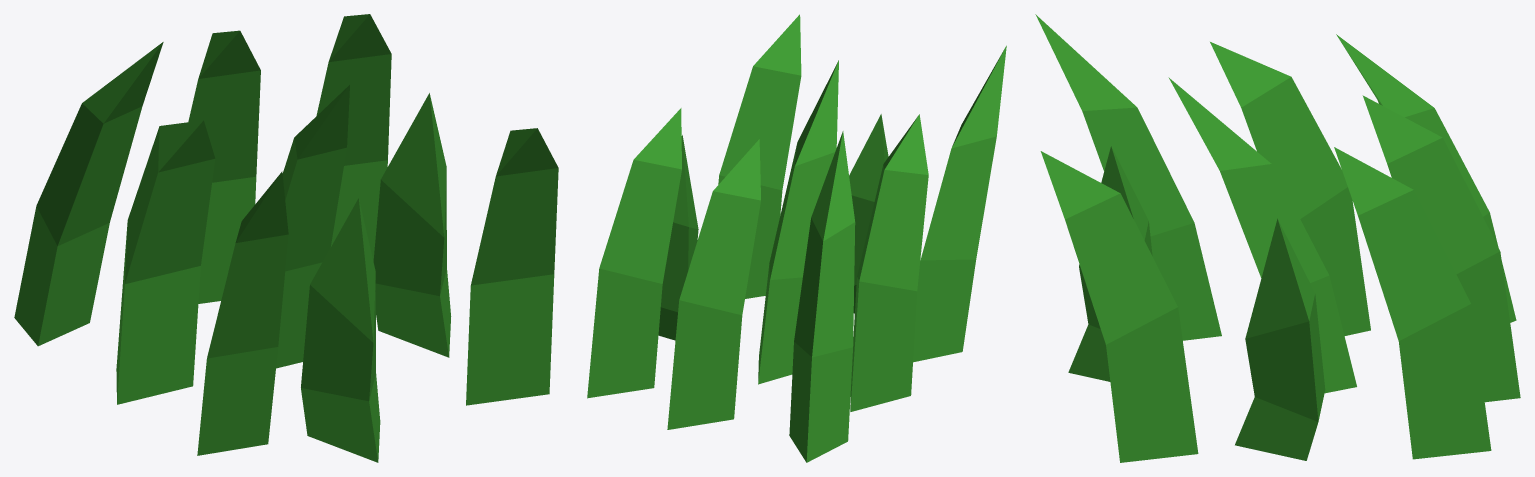
The model's file is Grass_1.glb.
3 views of the same model, side by side, from view 1: azimuth 30°, elevation 25°; view 2: azimuth 150°, elevation 25°; view 3: azimuth 270°, elevation 25° (orthographic). The views are drawn at different scales.
Parts seen in each view (by area): view 1: GrassBunch7; view 2: GrassBunch7; view 3: GrassBunch7.
Part boxes in pixels (left/top/right/bottom): GrassBunch7: left=14, top=14, right=558, bottom=462; GrassBunch7: left=587, top=14, right=1006, bottom=462; GrassBunch7: left=1035, top=14, right=1520, bottom=462.
Size of the model in its own units: 0.6725 by 0.6339 by 0.8995.
